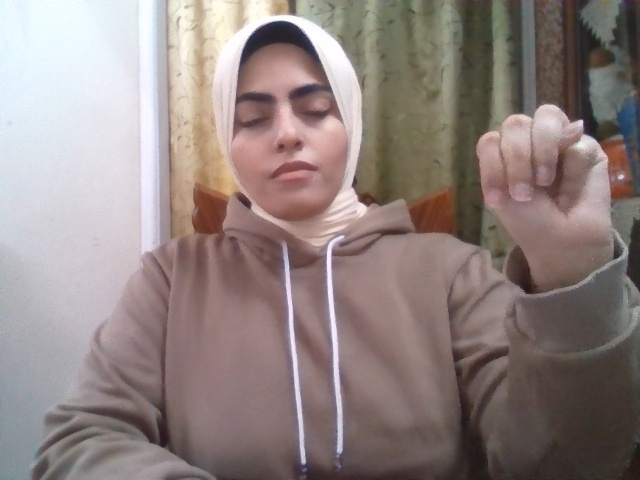M: (476, 103, 612, 253)
